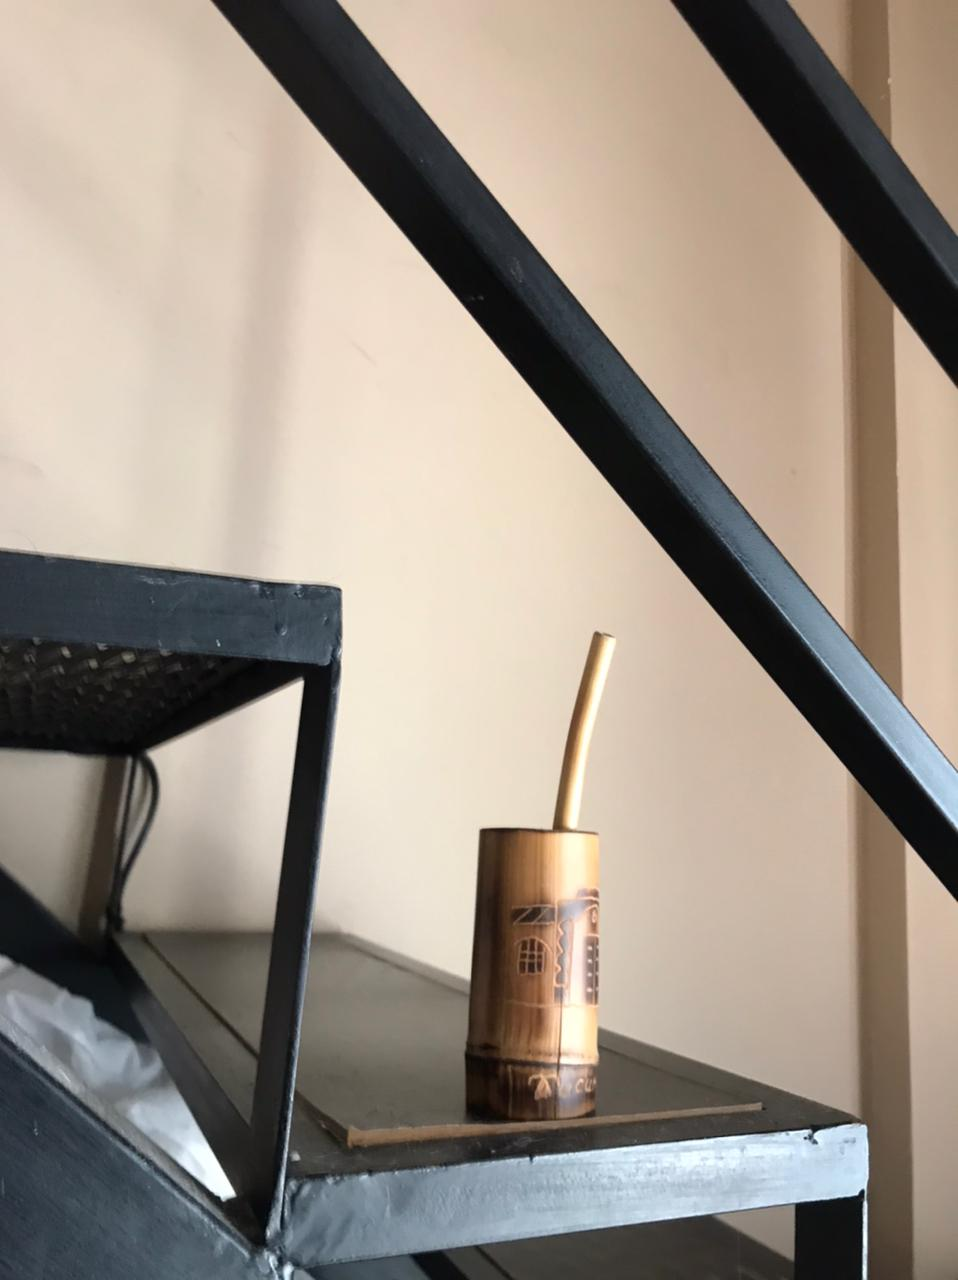mate: (446, 626, 643, 1141)
